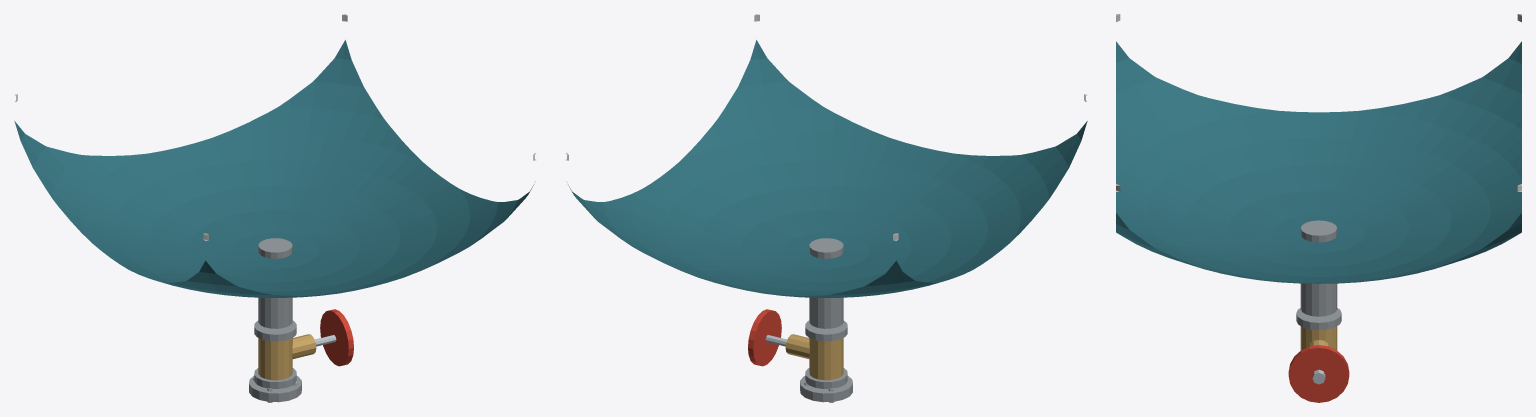
Rendered from cell_4.obj.
3 views of the same model, side by side, from view 1: azimuth 30°, elevation 25°; view 2: azimuth 150°, elevation 25°; view 3: azimuth 270°, elevation 25° (orthographic). The views are drawn at different scales.
Size of the model in its own units: 1 by 0.777 by 1.
